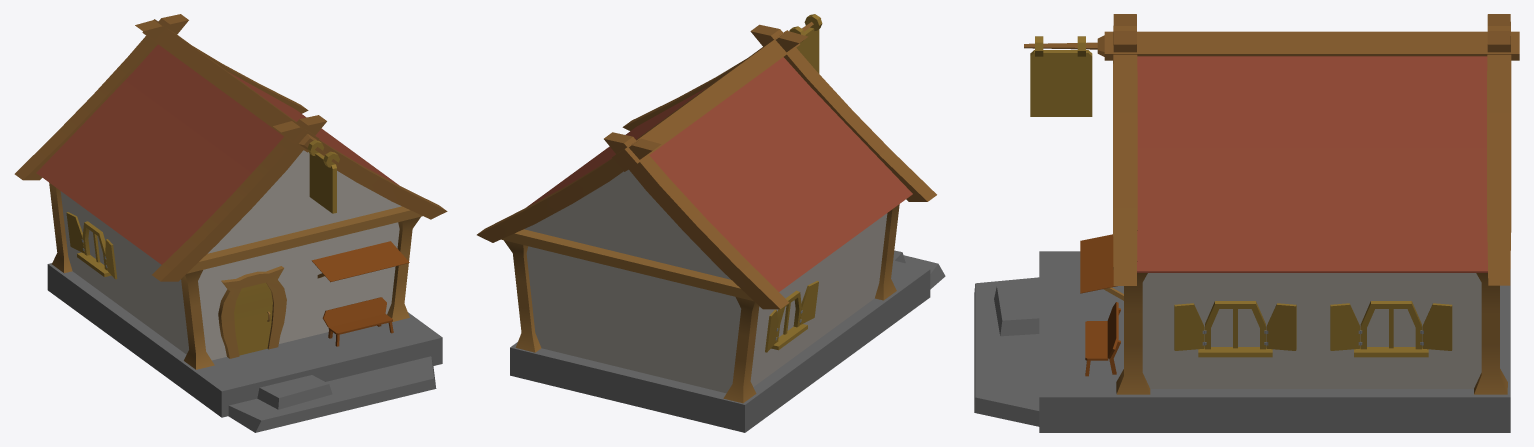
File: Дом1.1.2.fbx
The picture shows the model from 3 angles, left to right: view 1: azimuth 30°, elevation 25°; view 2: azimuth 150°, elevation 25°; view 3: azimuth 270°, elevation 25°; orthographic projection. The views are drawn at different scales.
Visible parts, largest first — view 1: Cube; view 2: Cube; view 3: Cube.
Boxes of the visible parts, x1,y1,x2,y2 form: Cube: (14,14,447,432); Cube: (477,14,945,432); Cube: (974,14,1519,432).
Size of the model in its own units: 1188 by 966 by 1442.
